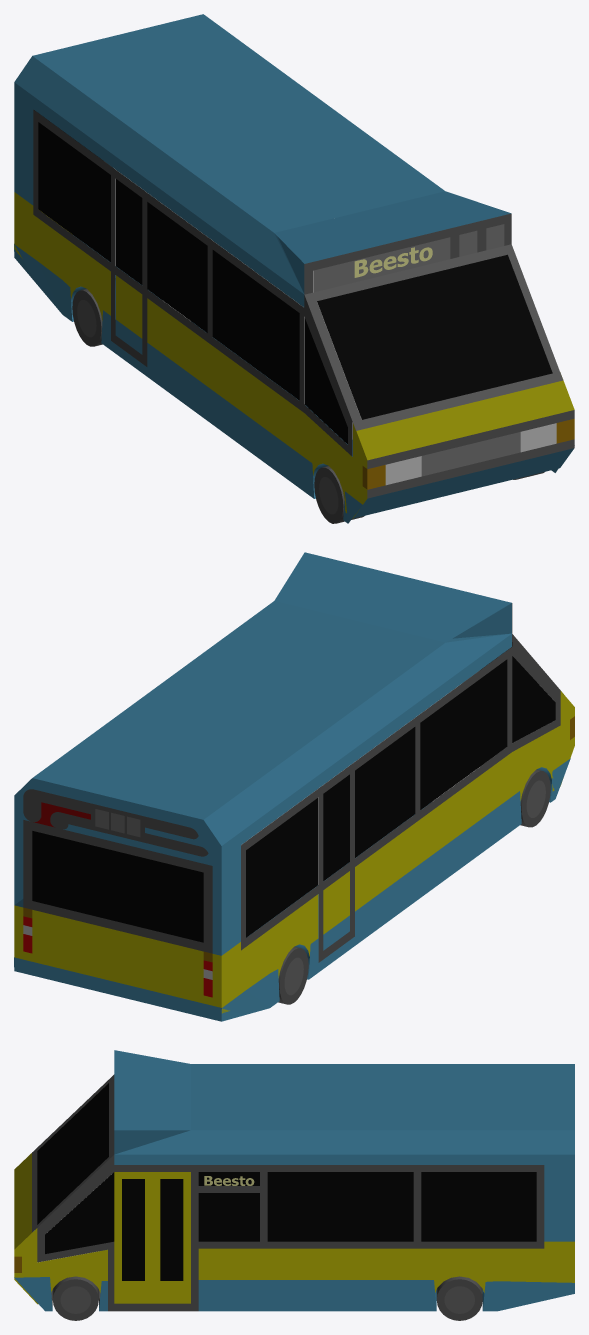
File: optare-metrorider-long-metrobus.dae
The picture shows the model from 3 angles, top to bottom: view 1: azimuth 30°, elevation 25°; view 2: azimuth 150°, elevation 25°; view 3: azimuth 270°, elevation 25°; orthographic projection. The views are drawn at different scales.
Parts seen in each view (by area): view 1: SketchUp_002, SketchUp_034, SketchUp_025, SketchUp_001, SketchUp_011, SketchUp_008, SketchUp_009, SketchUp_010, SketchUp_020, SketchUp_038, SketchUp_031, SketchUp_012 (+10 smaller); view 2: SketchUp_002, SketchUp_020, SketchUp_047, SketchUp_001, SketchUp_025, SketchUp_046, SketchUp_011, SketchUp_008, SketchUp_009, SketchUp_010, SketchUp_007, SketchUp_031 (+5 smaller); view 3: SketchUp_002, SketchUp_001, SketchUp_020, SketchUp_005, SketchUp_006, SketchUp_003, SketchUp_004, SketchUp_034, SketchUp_025, SketchUp, SketchUp_032, SketchUp_027 (+8 smaller).
Boxes of the visible parts, bbox=[...] form: SketchUp_002: bbox=[14, 14, 511, 307]; SketchUp_034: bbox=[317, 254, 552, 419]; SketchUp_025: bbox=[147, 298, 574, 518]; SketchUp_001: bbox=[33, 109, 563, 456]; SketchUp_011: bbox=[212, 250, 299, 400]; SketchUp_008: bbox=[101, 310, 314, 498]; SketchUp_009: bbox=[38, 122, 110, 262]; SketchUp_010: bbox=[147, 202, 207, 332]; SketchUp_020: bbox=[14, 192, 110, 320]; SketchUp_038: bbox=[313, 237, 450, 292]; SketchUp_031: bbox=[116, 179, 142, 284]; SketchUp_012: bbox=[304, 318, 347, 444]; SketchUp_002: bbox=[14, 552, 511, 955]; SketchUp_020: bbox=[14, 894, 318, 1013]; SketchUp_047: bbox=[32, 831, 203, 942]; SketchUp_001: bbox=[241, 603, 560, 962]; SketchUp_025: bbox=[355, 691, 574, 911]; SketchUp_046: bbox=[23, 789, 212, 953]; SketchUp_011: bbox=[420, 659, 507, 809]; SketchUp_008: bbox=[308, 791, 521, 979]; SketchUp_009: bbox=[246, 798, 318, 937]; SketchUp_010: bbox=[355, 727, 415, 857]; SketchUp_007: bbox=[14, 957, 279, 1021]; SketchUp_031: bbox=[323, 774, 349, 880]; SketchUp_002: bbox=[114, 1050, 574, 1241]; SketchUp_001: bbox=[32, 1074, 544, 1311]; SketchUp_020: bbox=[198, 1241, 574, 1292]; SketchUp_005: bbox=[267, 1172, 413, 1241]; SketchUp_006: bbox=[421, 1172, 536, 1241]; SketchUp_003: bbox=[198, 1280, 436, 1311]; SketchUp_004: bbox=[114, 1172, 190, 1303]; SketchUp_034: bbox=[37, 1083, 108, 1224]; SketchUp_025: bbox=[14, 1153, 107, 1304]; SketchUp: bbox=[45, 1172, 114, 1253]; SketchUp_032: bbox=[198, 1193, 259, 1241]; SketchUp_027: bbox=[160, 1179, 183, 1280].
Size of the model in its own units: 1.74 by 5.13 by 1.92.
